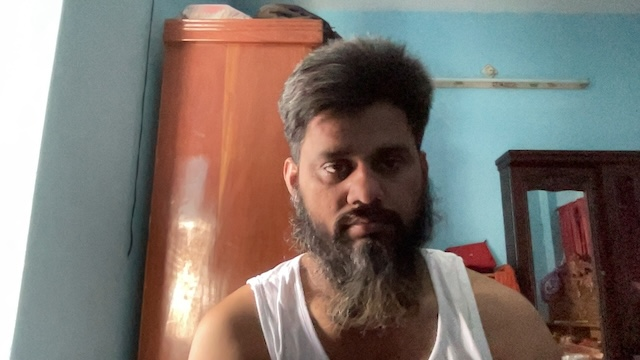Helmet: (260, 28, 443, 292)
